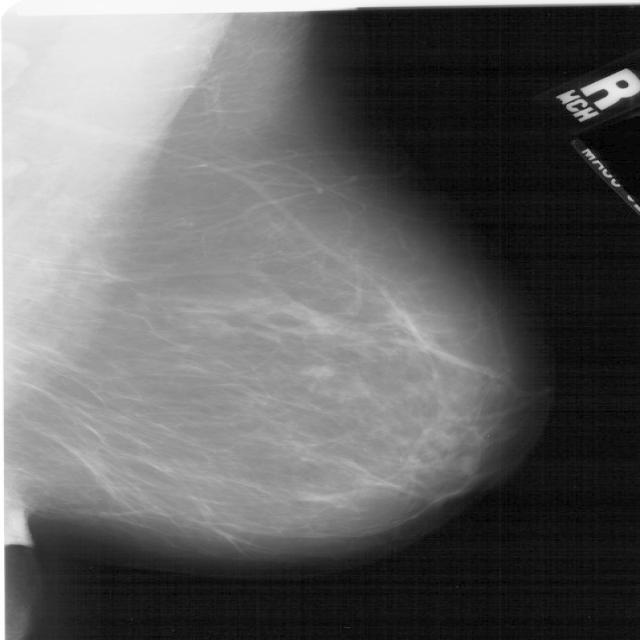tumour: (302, 362, 338, 376)
